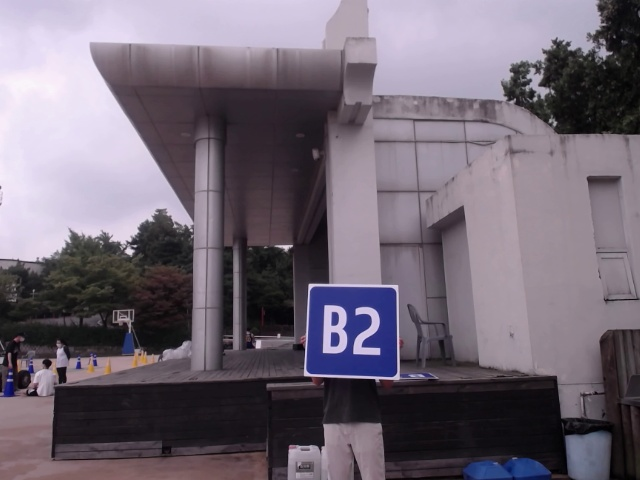delivery_b2: (308, 283, 399, 379)
